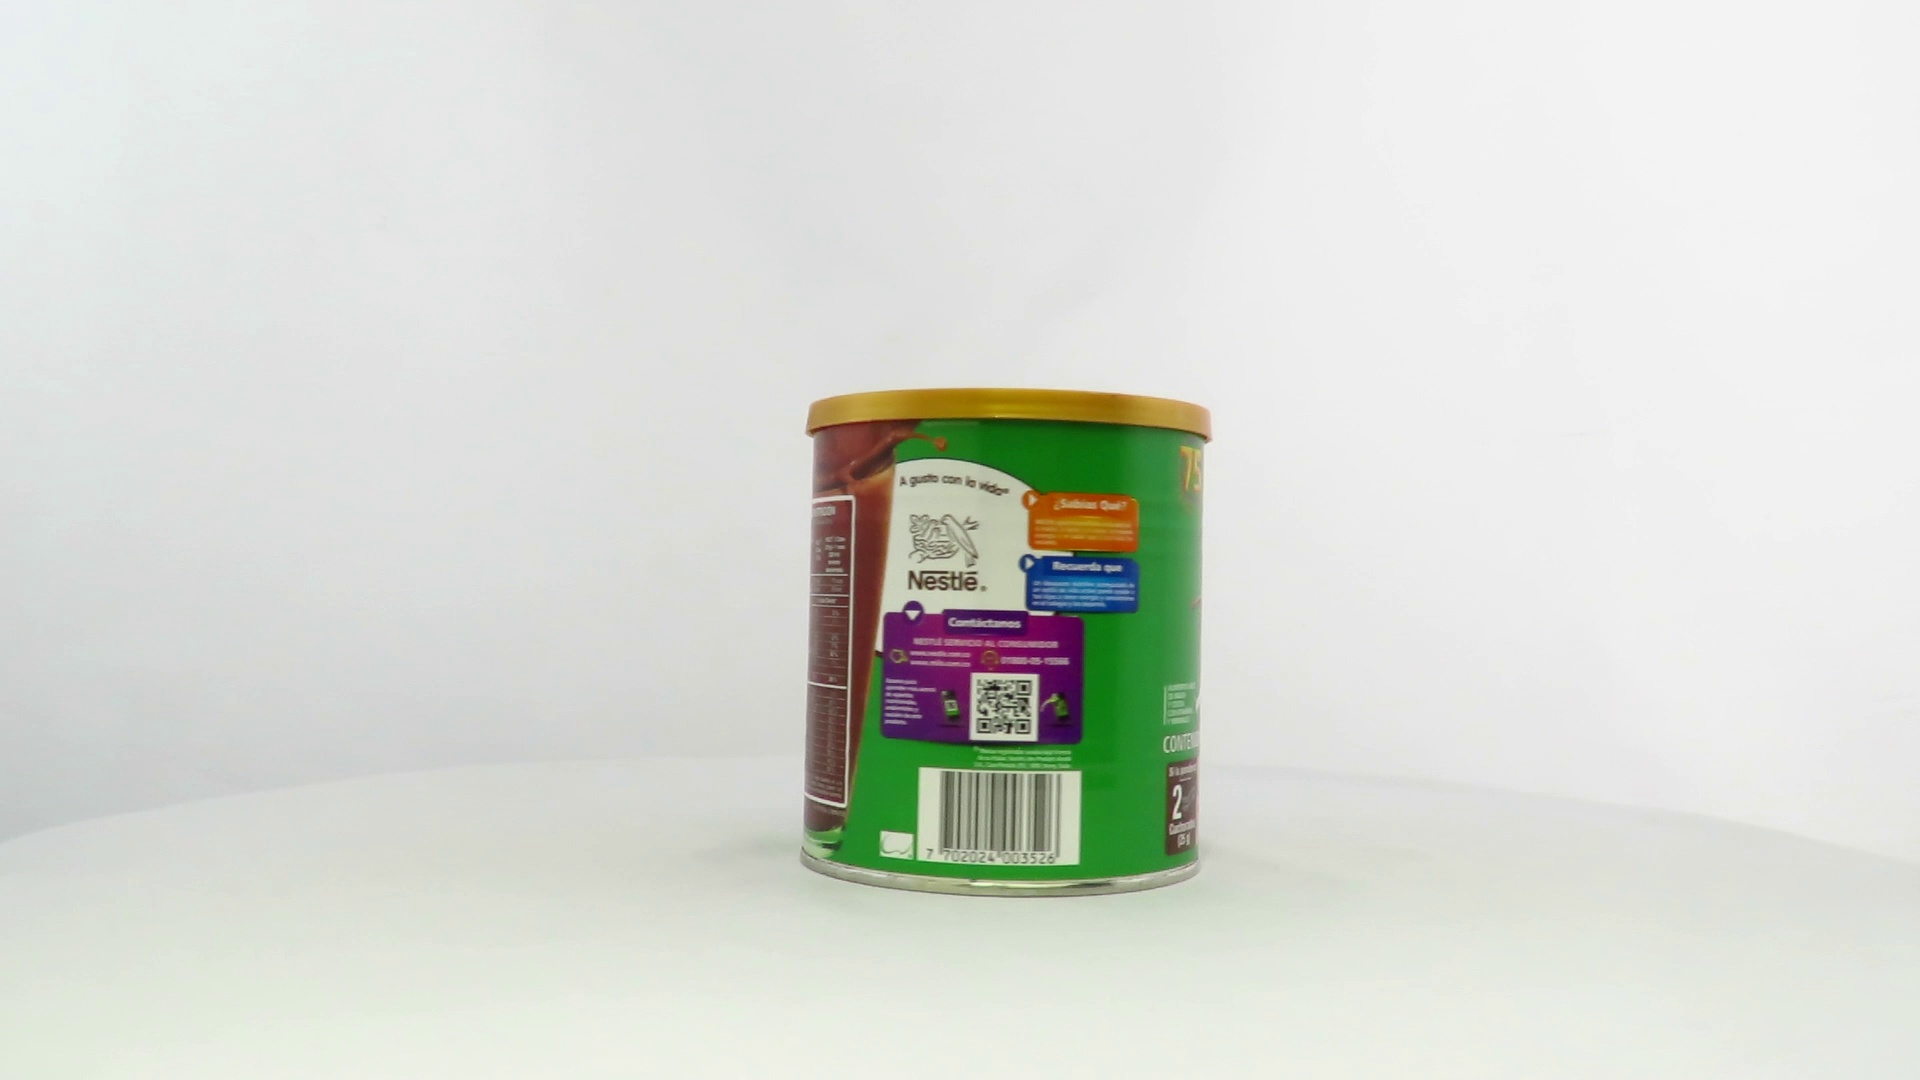COL0170203LAT40000: (794, 382, 1218, 905)
